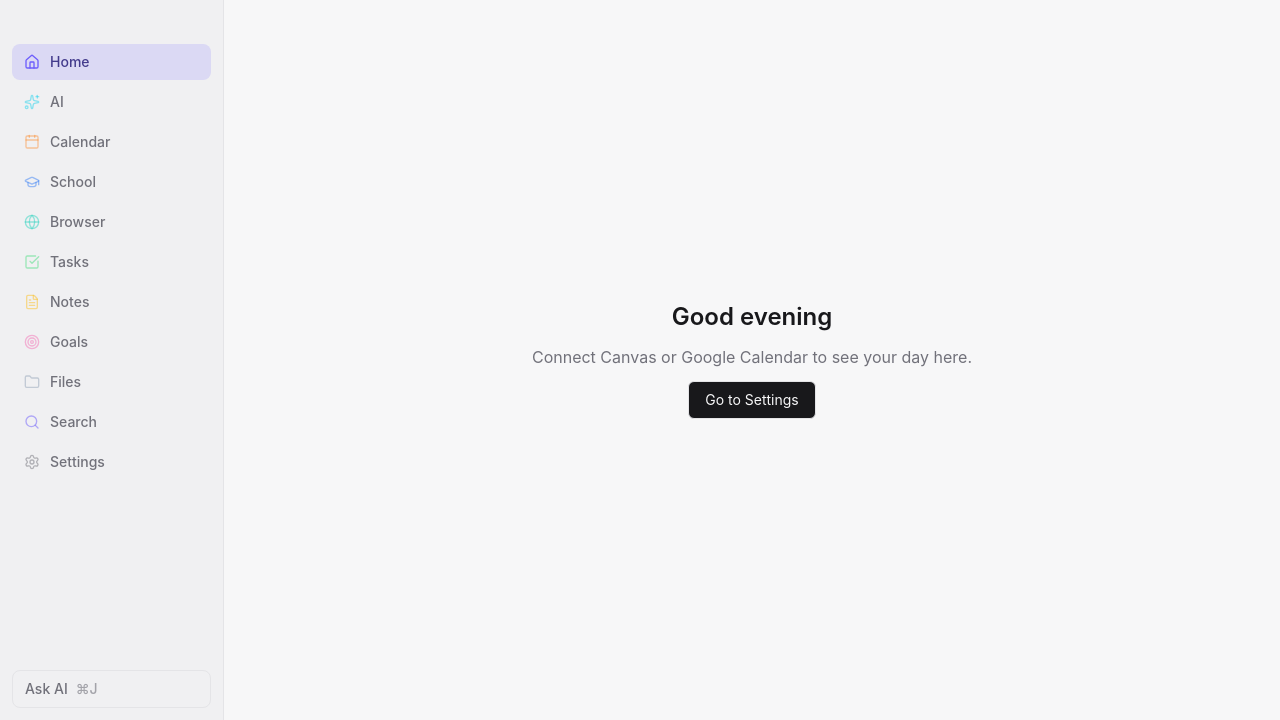
App › opens the AI dock with Cmd+J as a complementary panel, not a modal
Check: the heading "Good evening" is shown, box [672,301,832,333]
Type keys "{Meta>}j{/Meta}"
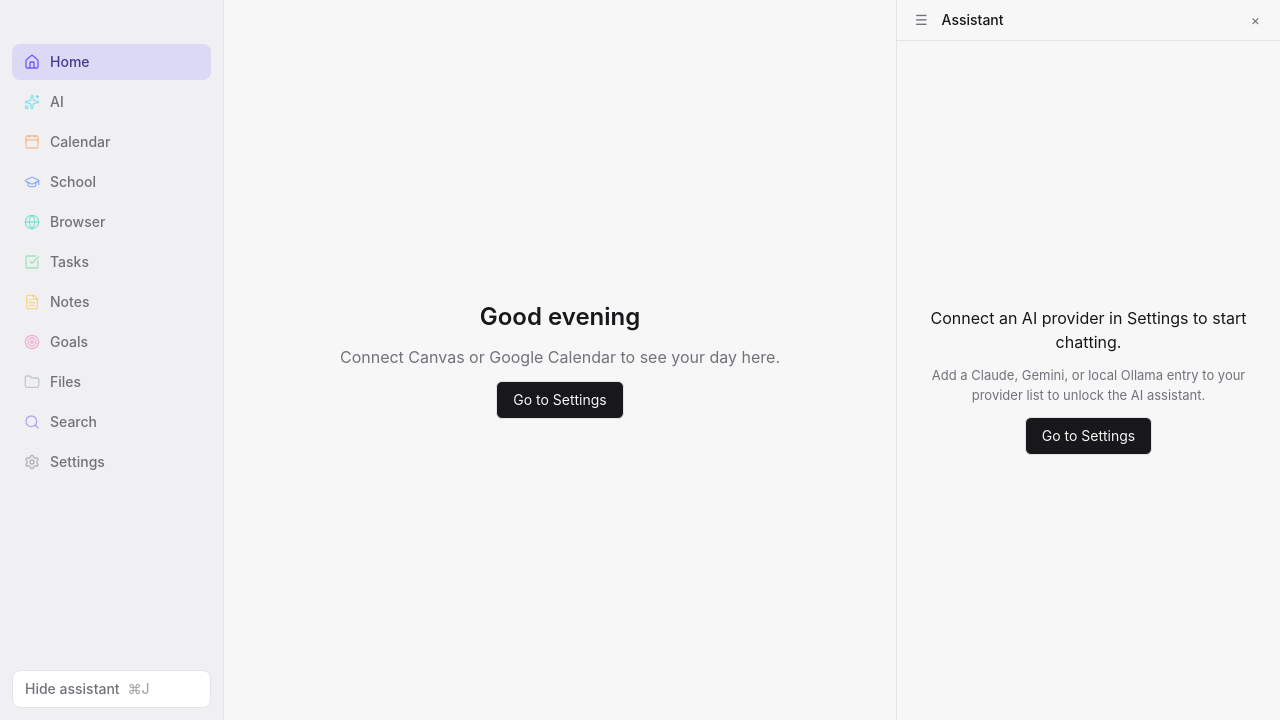
Check: the element "Assistant" is shown, box [896,0,1279,719]
// Escape is not a dismissal gesture for a dock -- it's not modal.
Press Escape
Check: the element "Assistant" is shown, box [896,0,1279,719]
Click the button named "close assistant" at (1255, 20), box [1243,8,1268,32]
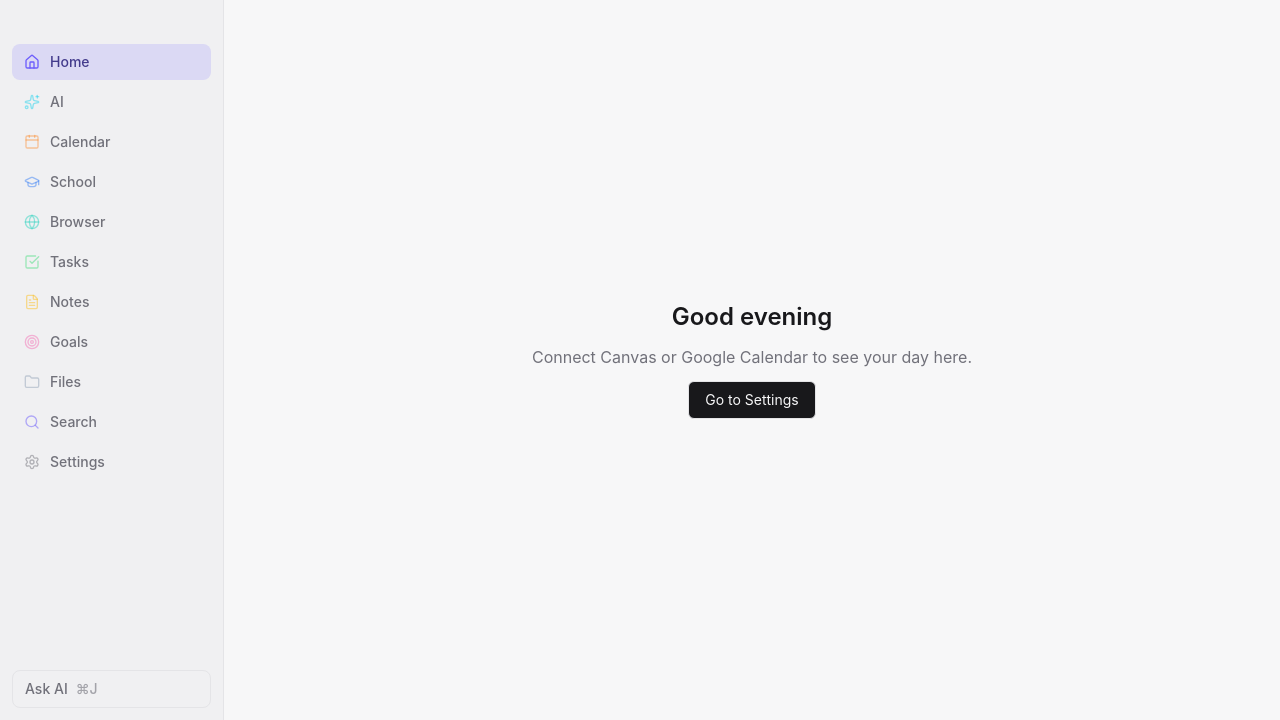
Check: the button "assistant" is gone
